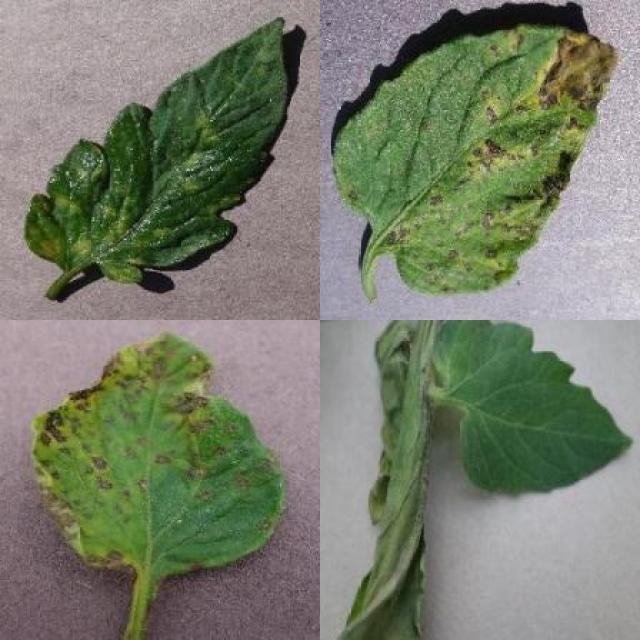Healthy: (430, 319, 633, 496)
Late Blight: (337, 320, 430, 640)
Leaf Mold: (24, 14, 290, 282)
Septoria: (334, 25, 615, 295), (31, 332, 285, 578)
